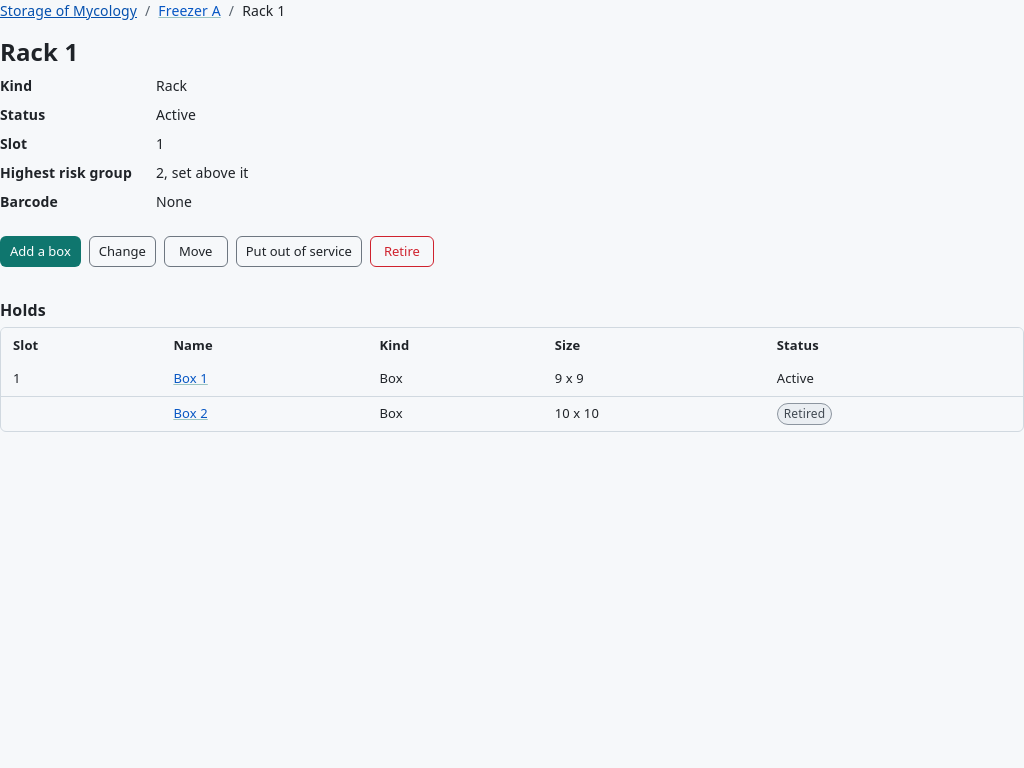
Test: UnitDetail › moves the unit into a place that may take it, never into itself or below it
Click the button "Move".
click(196, 252)  # box [164,236,228,267]
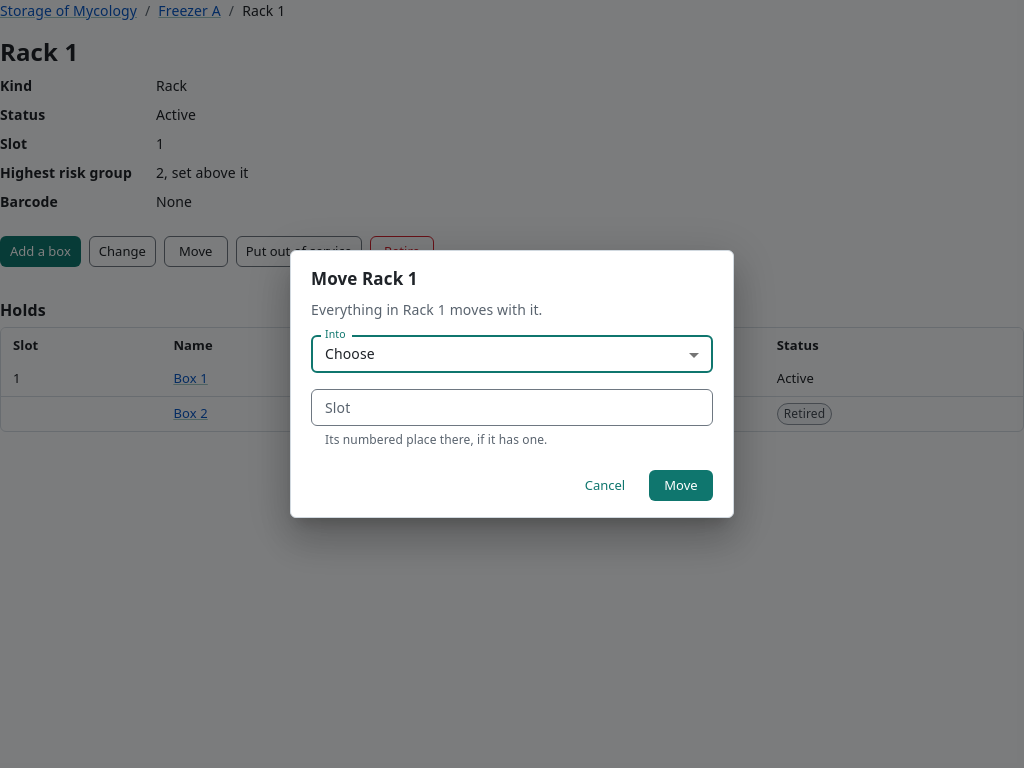
Select "Tank B" in the dropdown labelled "Into" at (512,354), box [311,336,713,373]
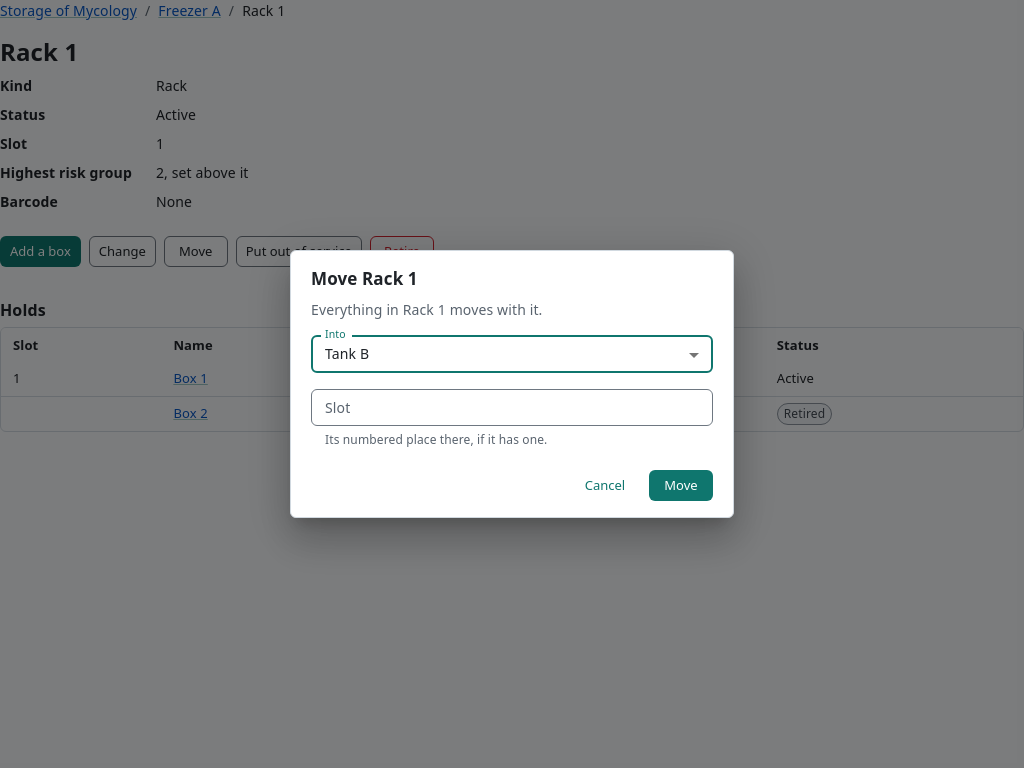
Type "3" into the field labelled "Slot".
click(512, 408); type("3")  # box [311,389,713,426]
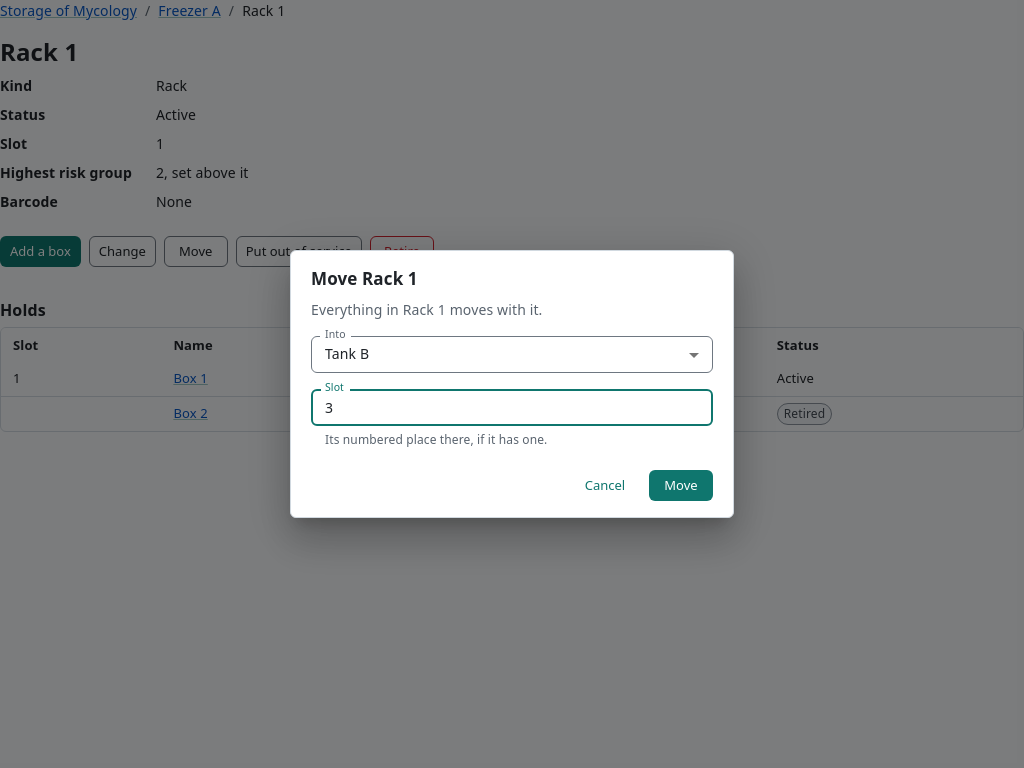
Click the button "Move".
click(681, 486)  # box [649,470,713,501]
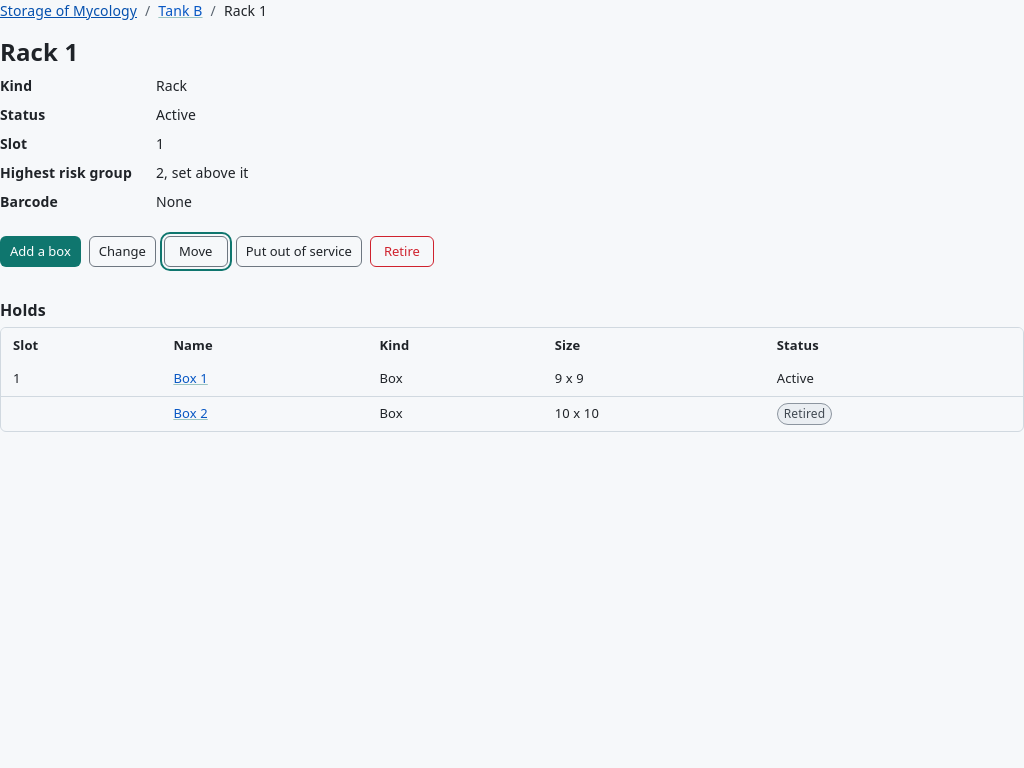
Expected: the heading "Move Rack 1" is gone
